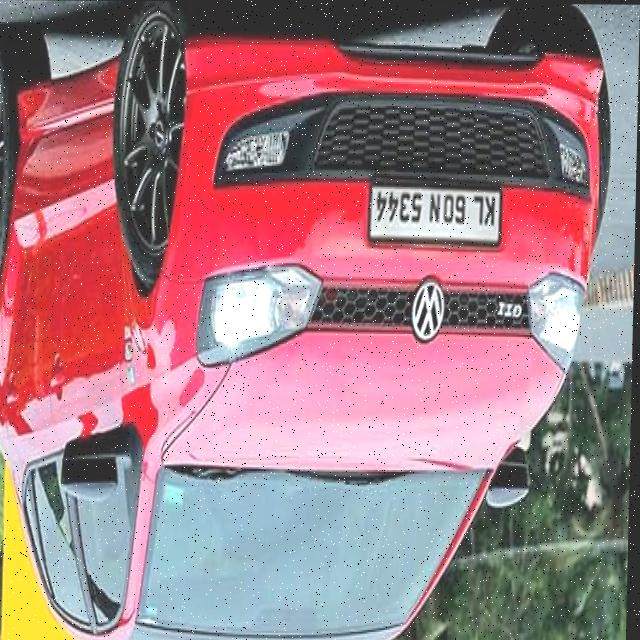plate: (371, 184, 504, 249)
